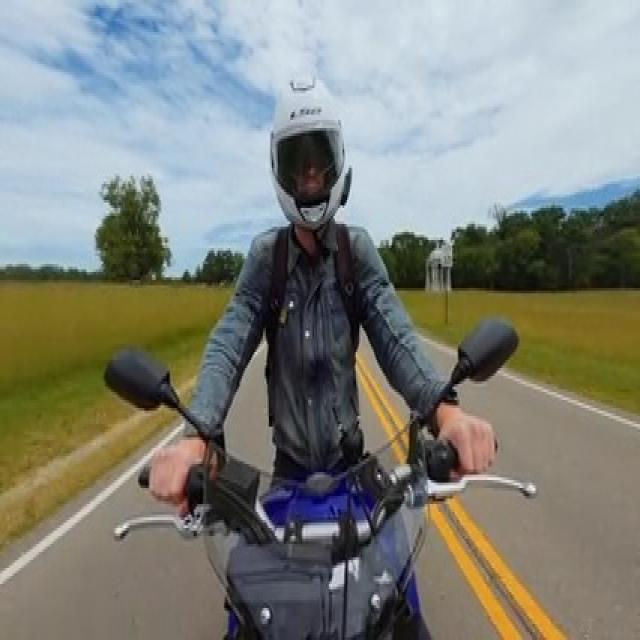Helmet_Wearer: (258, 58, 348, 224)
Person: (160, 58, 490, 488)
